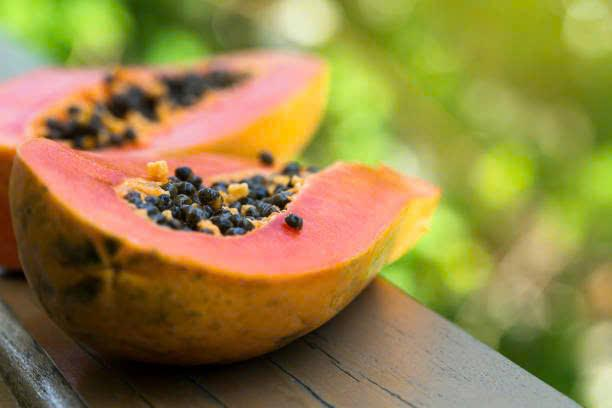papaya: (18, 127, 461, 310)
